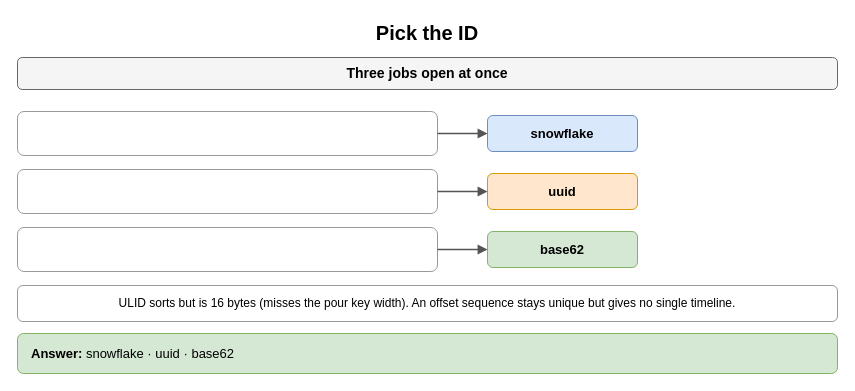
Image size: 855x391. Some labels were removed from this diagram. The shapes that lost their labels are listed below. From the top down, each one's centre as x and y in pixels, then its label:
the point at 227,133: pour-row: time order, 8 bytes, minted on the furnace
the point at 227,191: tablet-retry: no furnace number; names a call sent twice
the point at 227,249: window-card: a few characters
